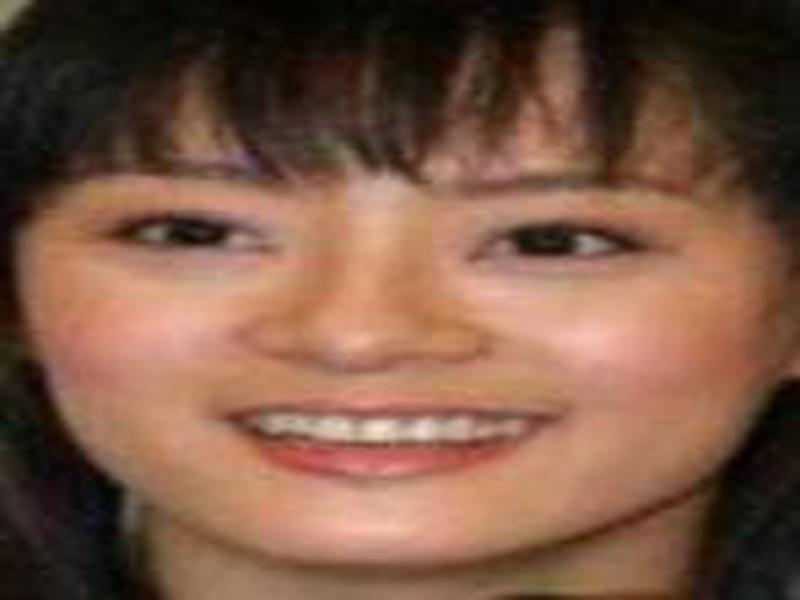without_mask: (17, 106, 776, 574)
